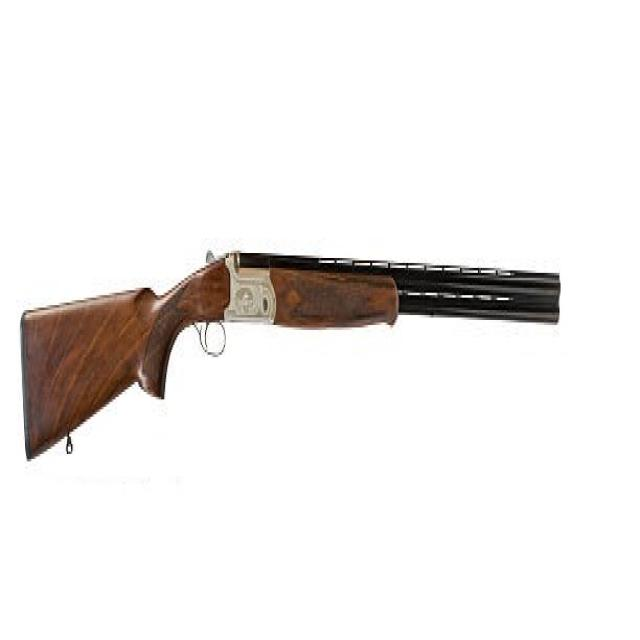rifle: (20, 248, 568, 491)
